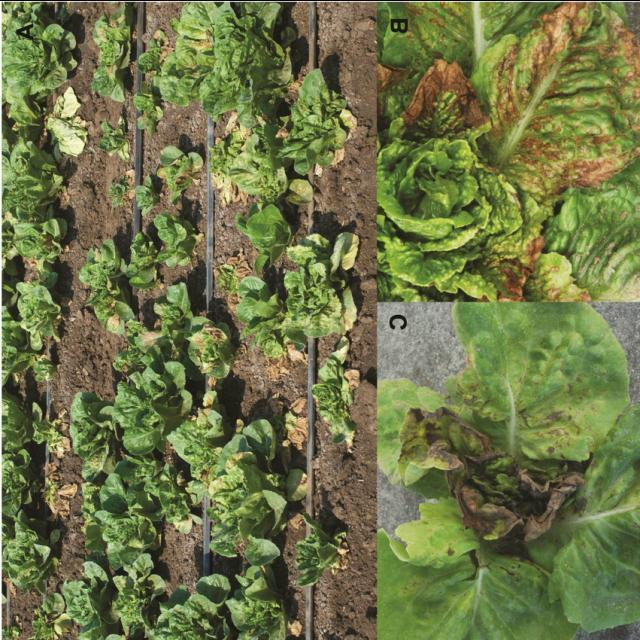Viral: (390, 17, 634, 289), (396, 364, 624, 612)
